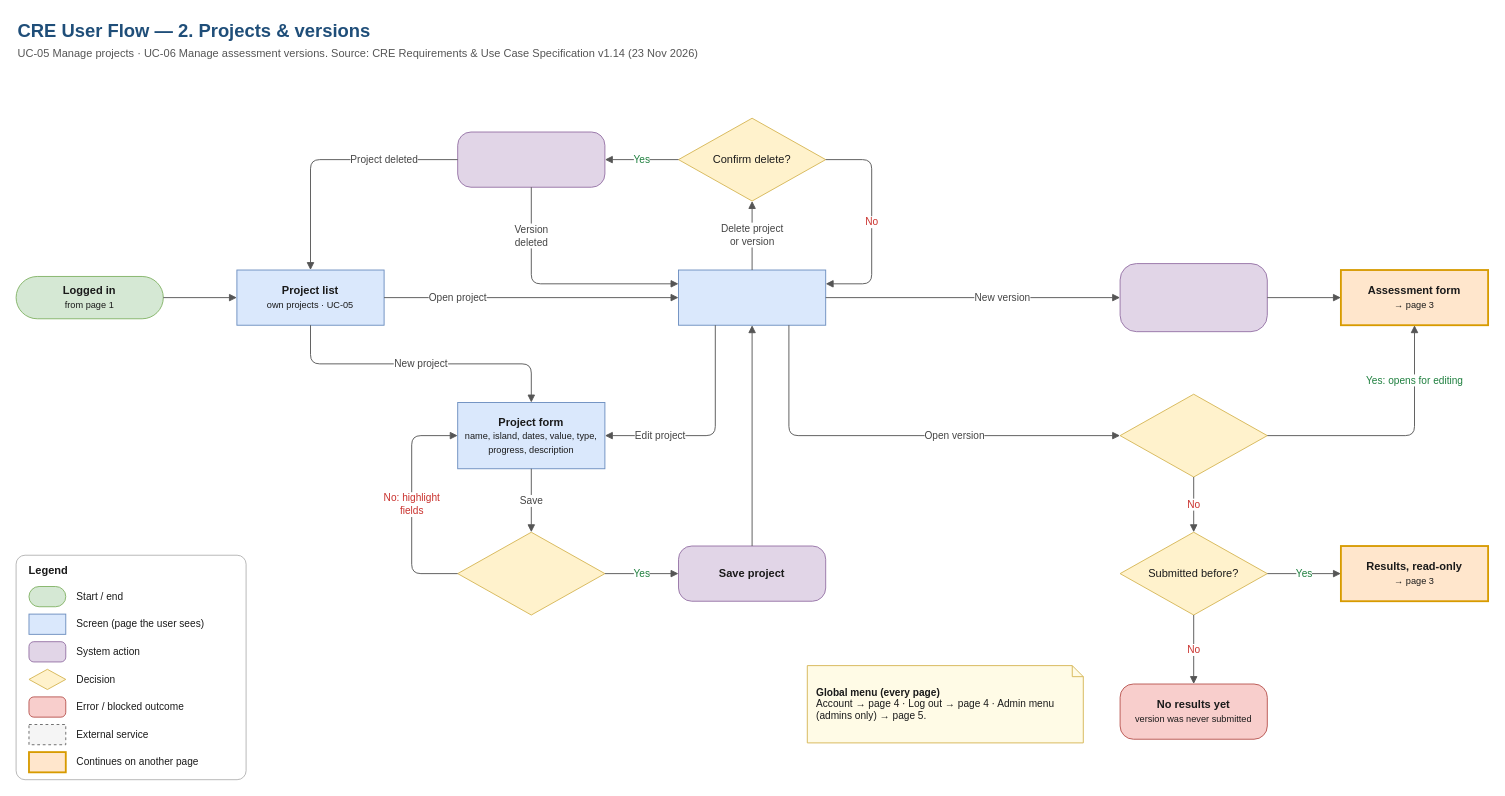
Image size: 1505x796. Some labels were removed from this diagram. The centre of each missing label's shape, as x and y in pixels:
"Create blank version v(n+1) snapshot stored; previous version becomes read-only" goes at pixel 1193 297.
"Fields valid?" goes at pixel 531 573.
"Latest version?" goes at pixel 1193 435.
"Project detail project data + version list · UC-06" goes at pixel 752 297.
"Soft-delete hidden from the user, data retained, no restore" goes at pixel 531 159.
